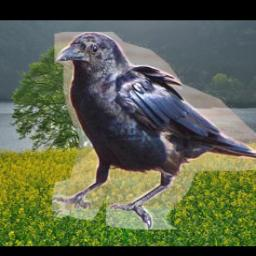Crow: (52, 32, 256, 230)
